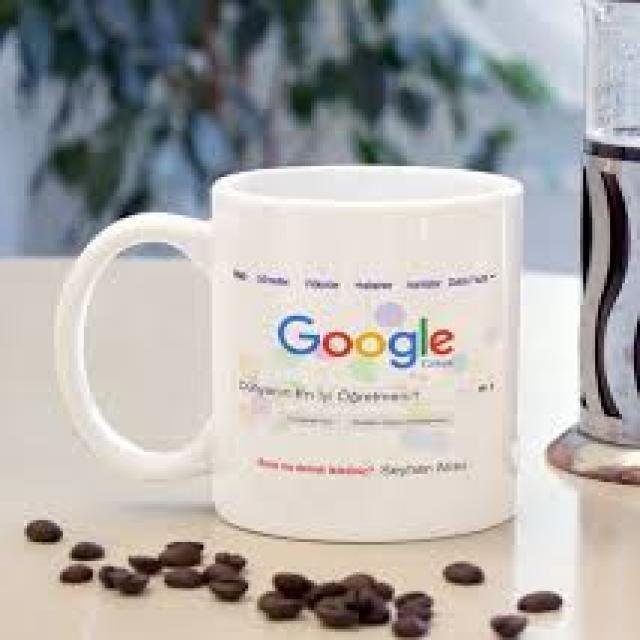taza: (52, 165, 525, 543)
